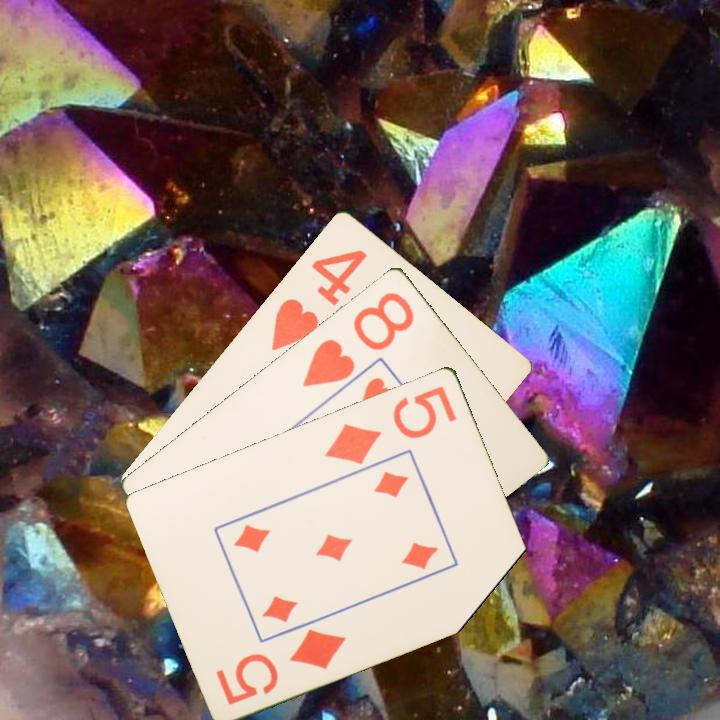4h: (267, 245, 370, 353)
5d: (321, 381, 460, 467), (212, 624, 349, 708)
8h: (298, 287, 418, 390)
